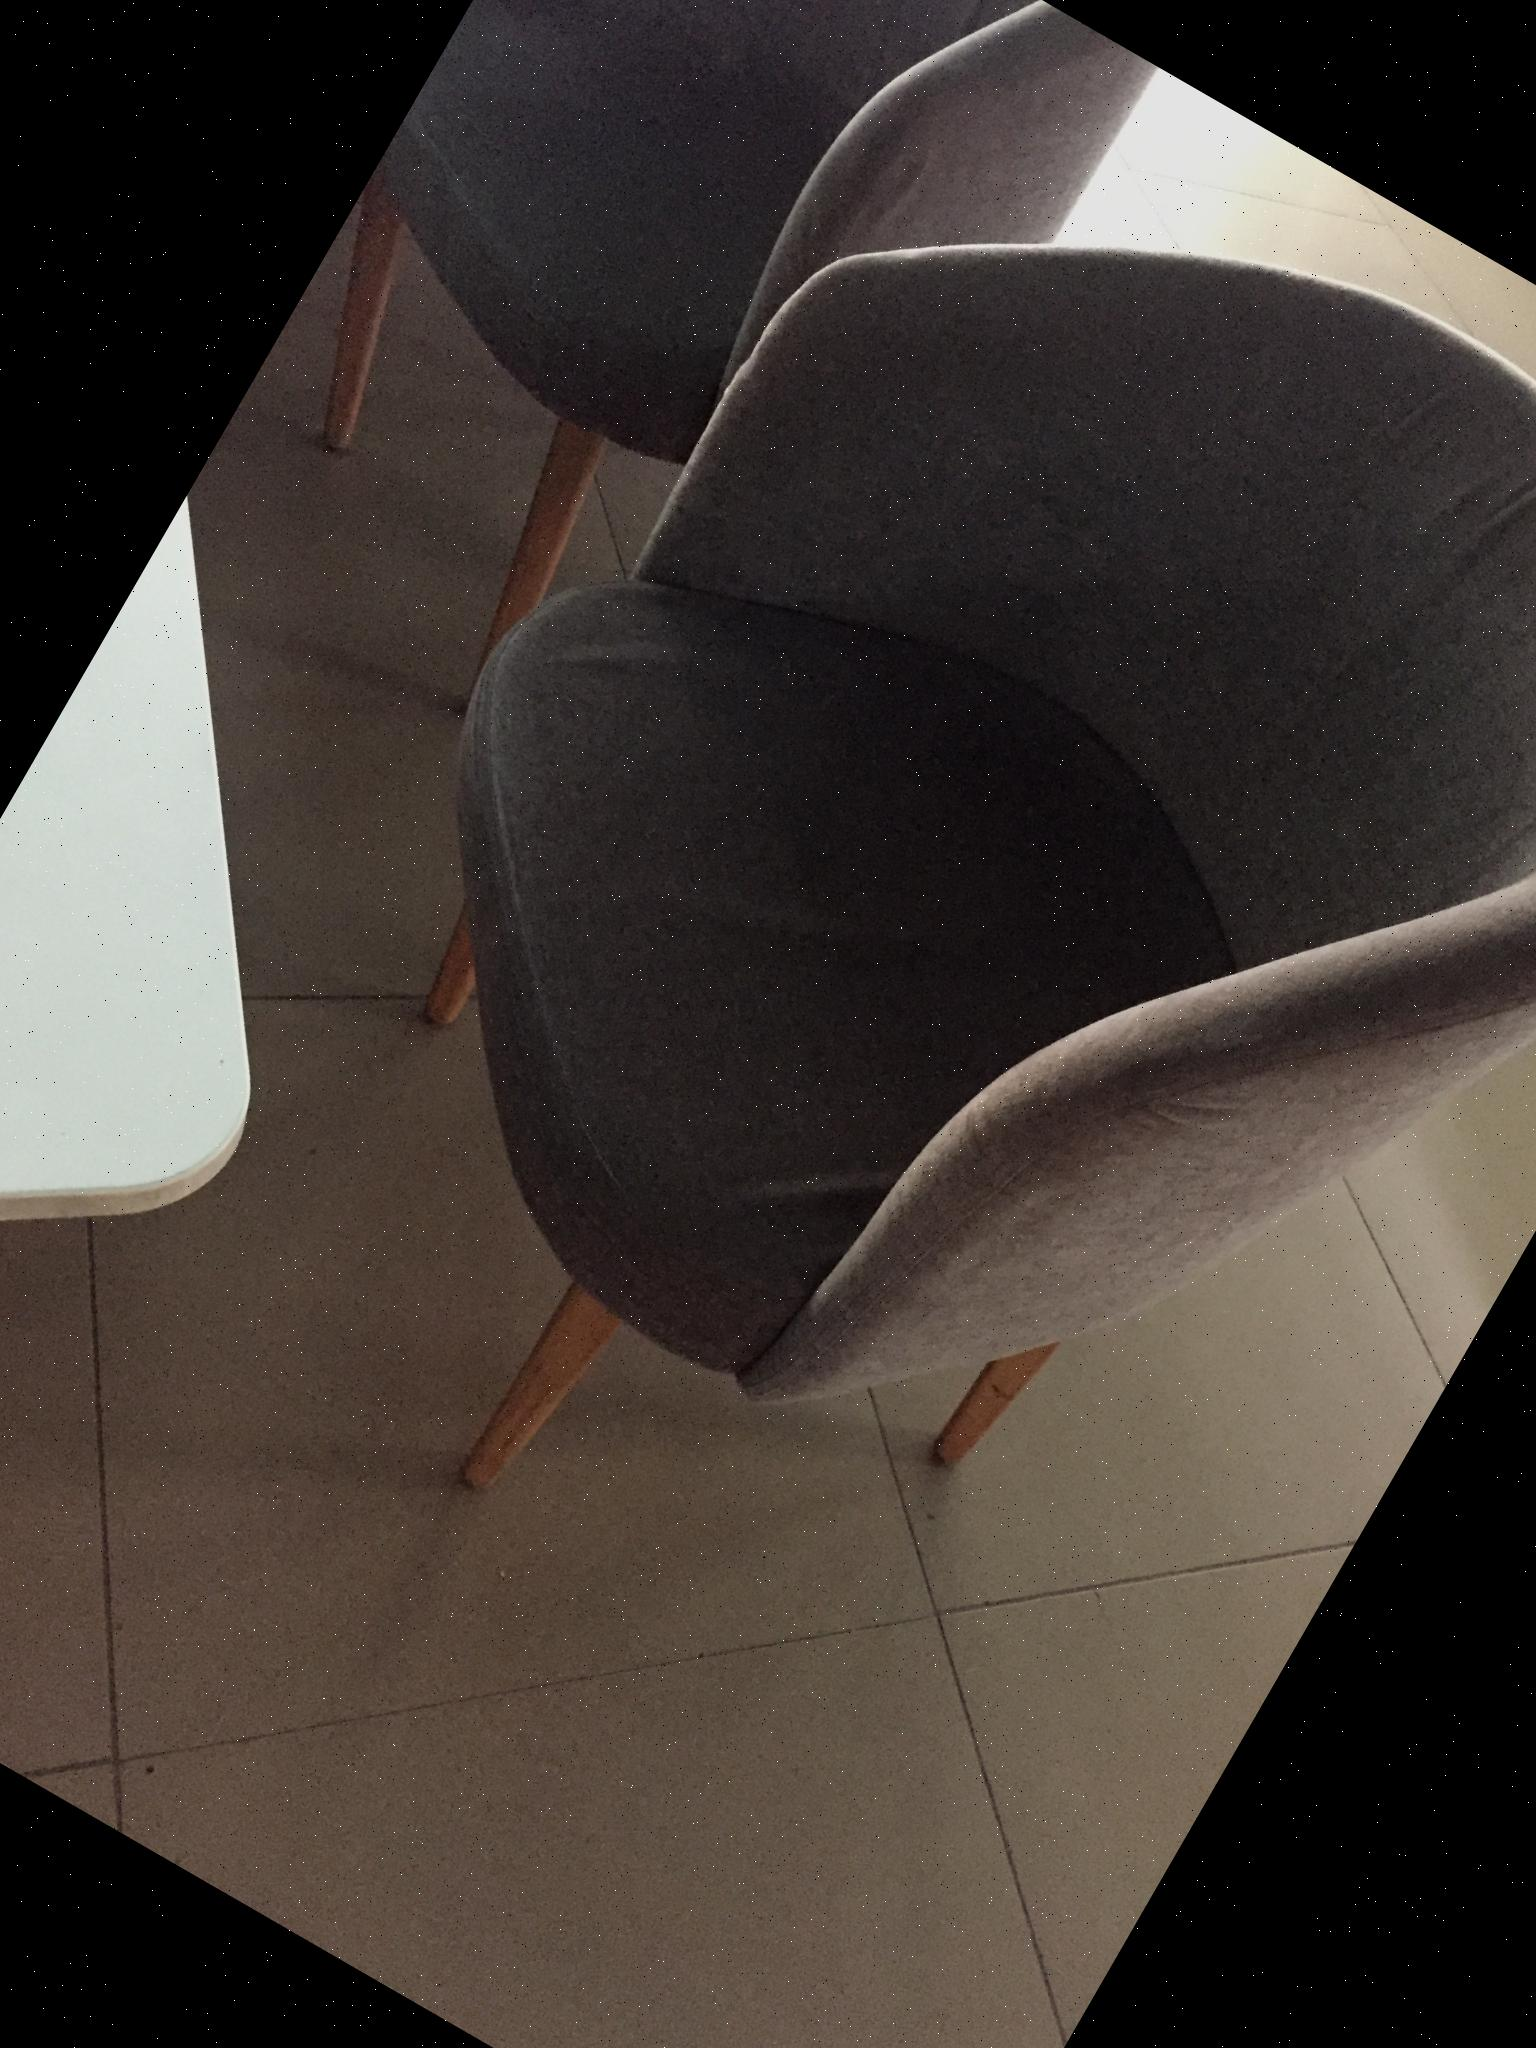chair: (123, 0, 1536, 1880), (223, 0, 1191, 768)
